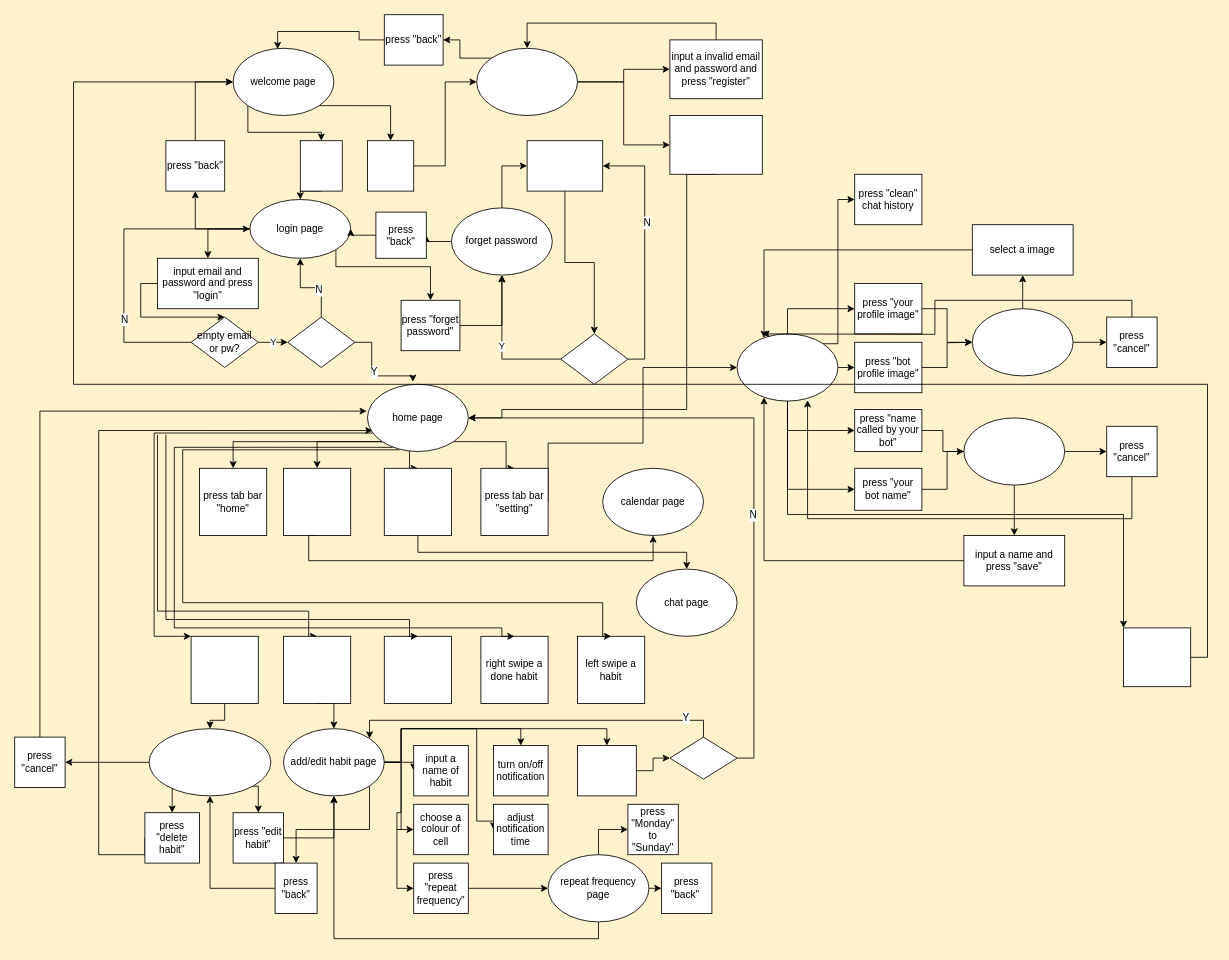
The diagram is 1229 pixels wide and 960 high, and some of its shapes have lost their labels. The centre of each missing label's shape, as x and y in pixels:
email valid?: the point at 594,358
habit detail page: the point at 209,762
image selection page: the point at 1022,342
input a valid email and password and press "register": the point at 715,144
input an email and press "reset password": the point at 564,165
name exists?: the point at 703,757
name input page: the point at 1014,451
press "done": the point at 606,770
press "login": the point at 320,165
press "logout": the point at 1157,657
press "register": the point at 390,165
press a habit: the point at 224,669
press tab bar "calendar": the point at 317,501
press tab bar "chat": the point at 417,501
press the "plus": the point at 317,669
register page: the point at 527,81
right swipe an undone habit: the point at 417,669
setting page: the point at 787,367
valid email and password?: the point at 321,342
